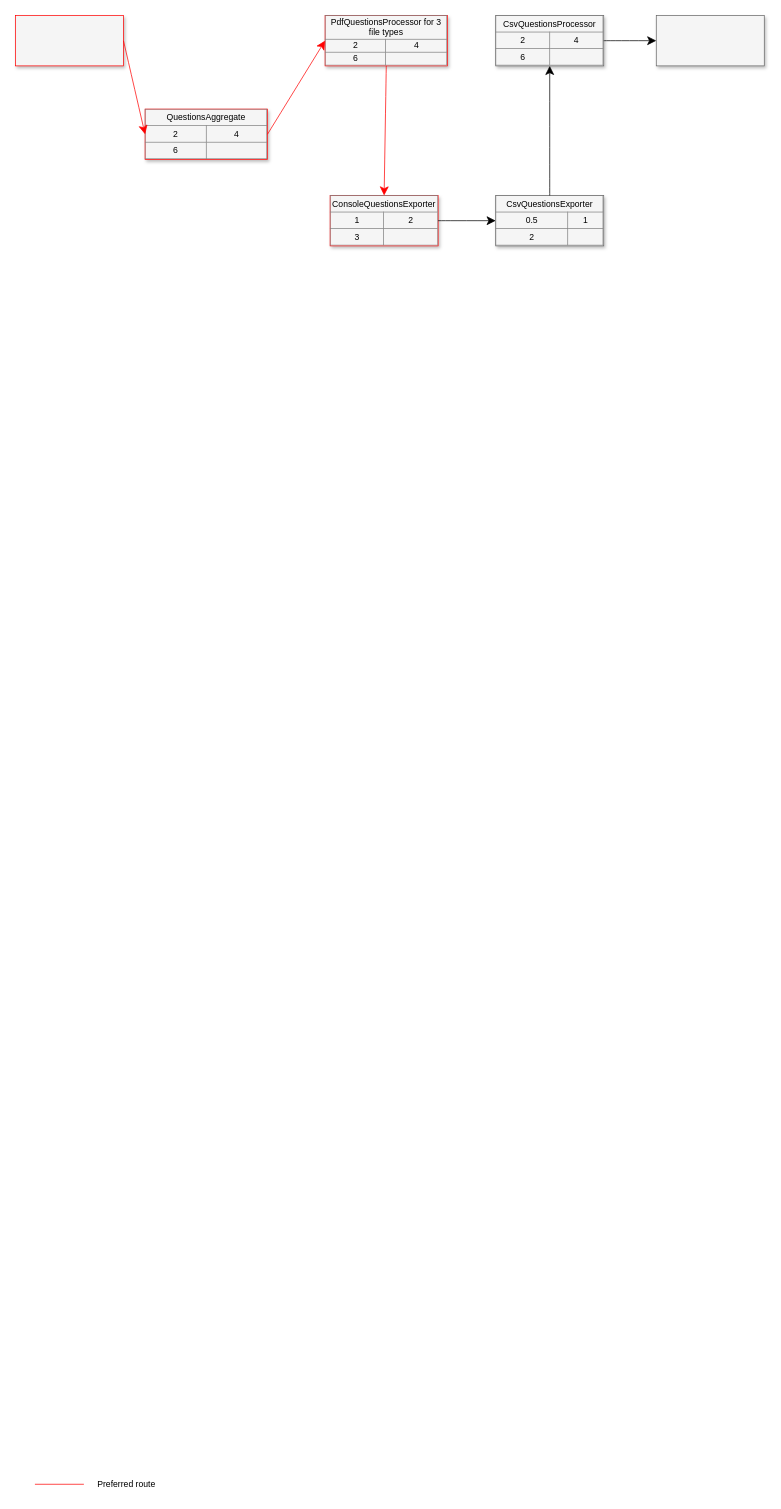
This 781x1509 diagram has some shape labels left out. Each missing label, with the centre of its shape:
"Cli PdfQuestions Processor 2 4 6" goes at point 711,41.
"PdfQuestions Processor 2 4 6" goes at point 70,41.
